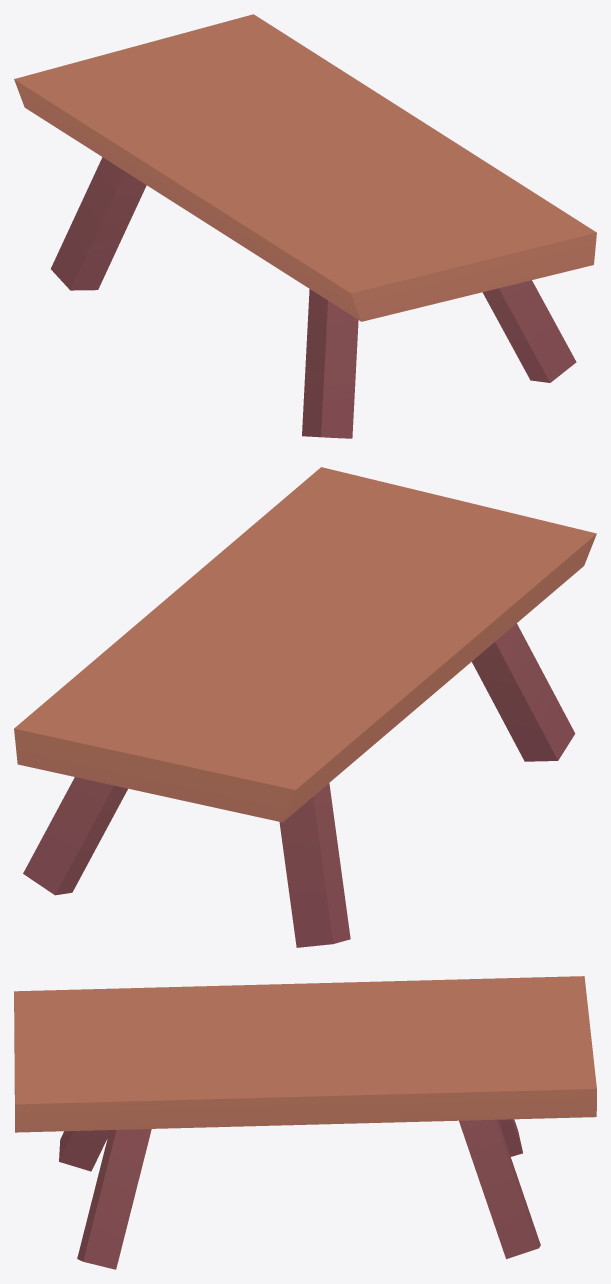
Rendered from village_town_picnic_table.glb.
The picture shows the model from 3 angles, top to bottom: view 1: azimuth 30°, elevation 25°; view 2: azimuth 150°, elevation 25°; view 3: azimuth 270°, elevation 25°; orthographic projection. The views are drawn at different scales.
Visible parts, largest first — view 1: Picnic Table.001_Material.005_0; view 2: Picnic Table.001_Material.005_0; view 3: Picnic Table.001_Material.005_0.
Boxes of the visible parts, <box> form: Picnic Table.001_Material.005_0: <box>14,14,596,438</box>; Picnic Table.001_Material.005_0: <box>14,467,596,947</box>; Picnic Table.001_Material.005_0: <box>14,976,596,1269</box>.
Bounding box in the file's own units: 0.864 × 0.5092 × 1.57.
Materials: 1 (1 with a texture image).
